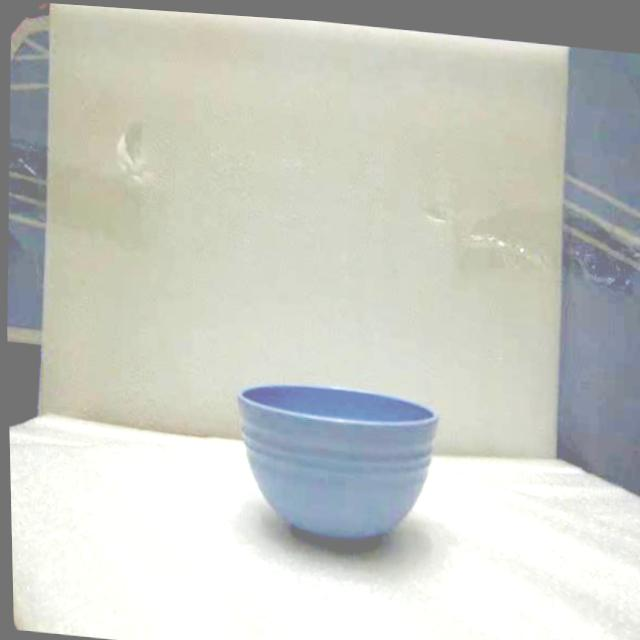Bowl: (238, 385, 438, 545)
